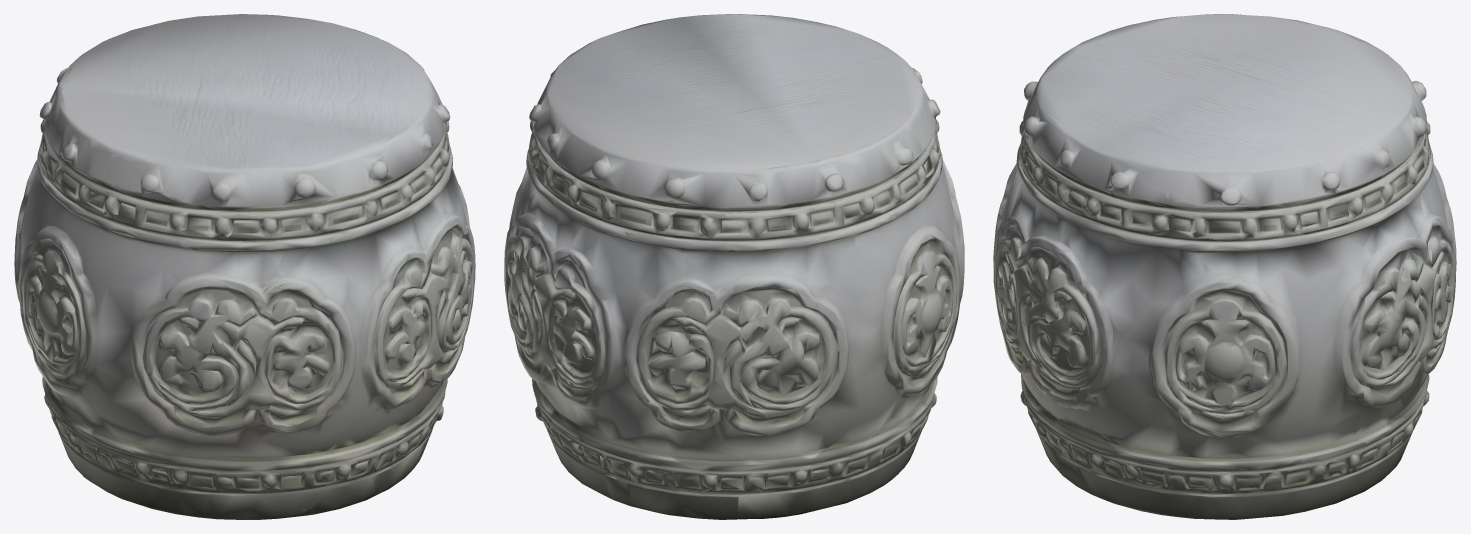
File: stoneStool.glb
3 renders of one model, left to right at view 1: azimuth 30°, elevation 25°; view 2: azimuth 150°, elevation 25°; view 3: azimuth 270°, elevation 25°, orthographic.
Visible parts, largest first — view 1: node_0; view 2: node_0; view 3: node_0.
Boxes of the visible parts, x1,y1,x2,y2 form: node_0: (14,14,475,519); node_0: (504,14,964,519); node_0: (993,14,1456,519).
Bounding box in the file's own units: 0.5403 × 0.4499 × 0.5341.
1 material, 1 textured.
